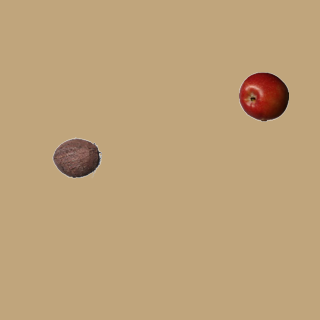Apple Braeburn: (238, 71, 288, 121)
Cocos: (51, 132, 101, 182)
